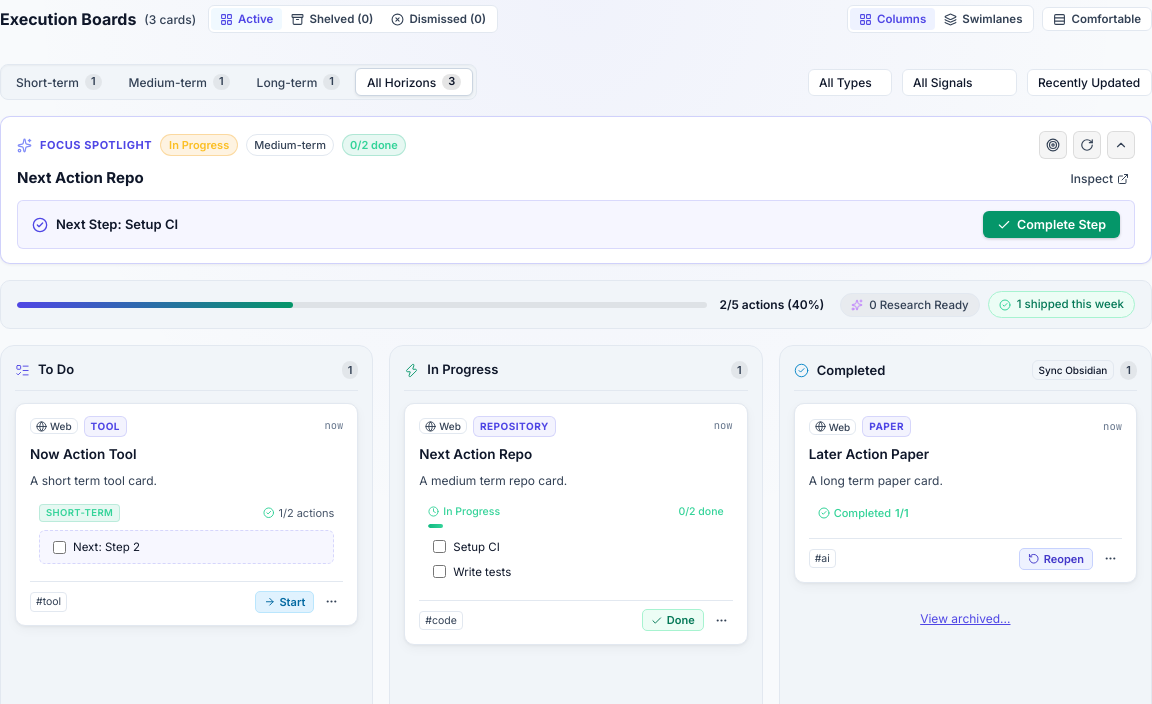
Scenario: KanbanBoard Density & Usability › Execution Swimlanes (2D Strategic Matrix) › handles 2D drag-and-drop into Horizon swimlane cell updating status and horizon with Undo
The width and height of the screenshot is (1152, 704).
Click the radio button labelled "Swimlanes" at (983, 19), box [935,8,1032,30]
(page scrolled)
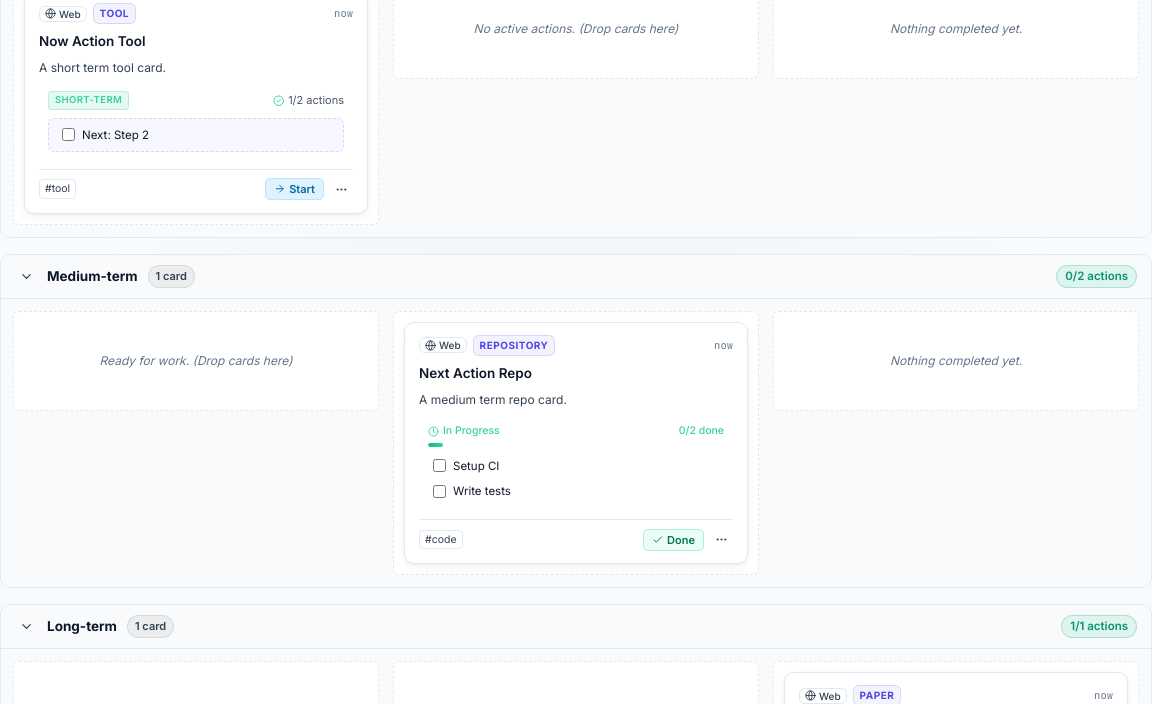
Check: the element with test id "swimlane-cell-medium-term-done" is shown, box [773,311,1139,411]
